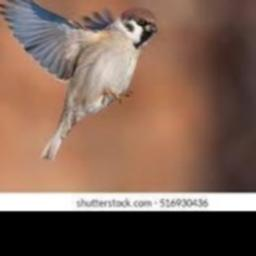Sparrow: (0, 0, 157, 158)
